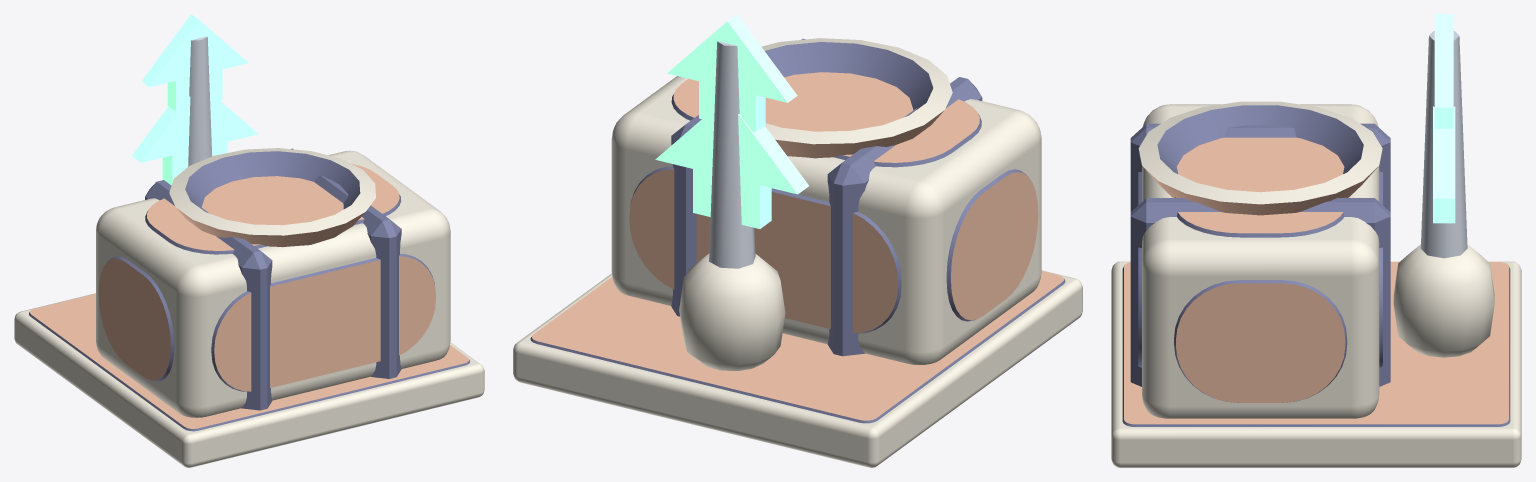
File: R4X_CargoUplink.fbx
The picture shows the model from 3 angles, left to right: view 1: azimuth 30°, elevation 25°; view 2: azimuth 150°, elevation 25°; view 3: azimuth 270°, elevation 25°; orthographic projection. The views are drawn at different scales.
Visible parts, largest first — view 1: R4X_CargoUplink_Body; view 2: R4X_CargoUplink_Body; view 3: R4X_CargoUplink_Body.
Boxes of the visible parts, x1,y1,x2,y2 form: R4X_CargoUplink_Body: (14, 14, 484, 467); R4X_CargoUplink_Body: (513, 14, 1082, 467); R4X_CargoUplink_Body: (1111, 14, 1521, 467).
Size of the model in its own units: 0.514 by 0.515 by 0.514.
